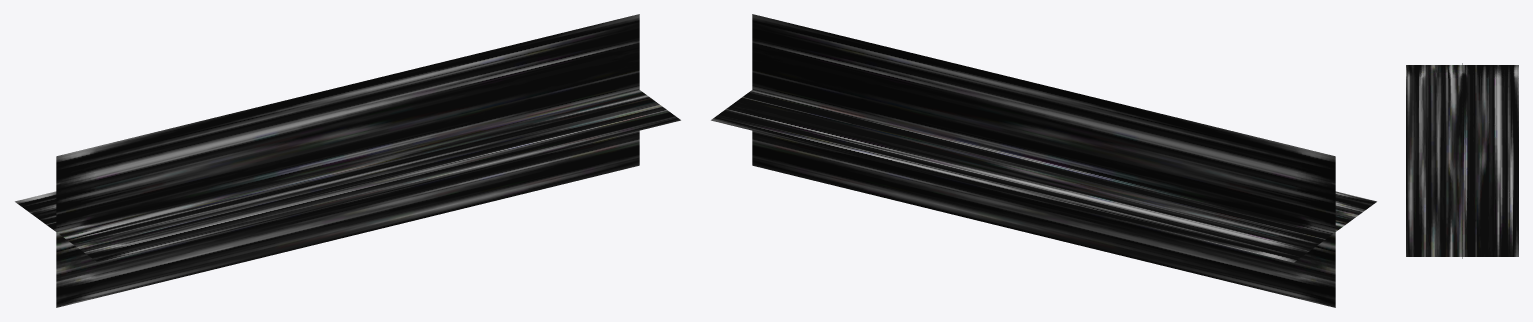
Rendered from 0258_cjphl_light_z01.glb.
The picture shows the model from 3 angles, left to right: view 1: azimuth 30°, elevation 25°; view 2: azimuth 150°, elevation 25°; view 3: azimuth 270°, elevation 25°; orthographic projection. The views are drawn at different scales.
Bounding box in the file's own units: 2.2 × 0.5466 × 0.5466.
Materials: 1 (1 with a texture image).
